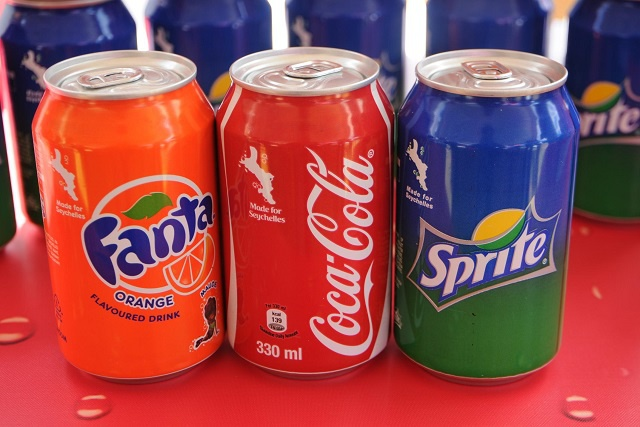sprite: (420, 221, 545, 293)
